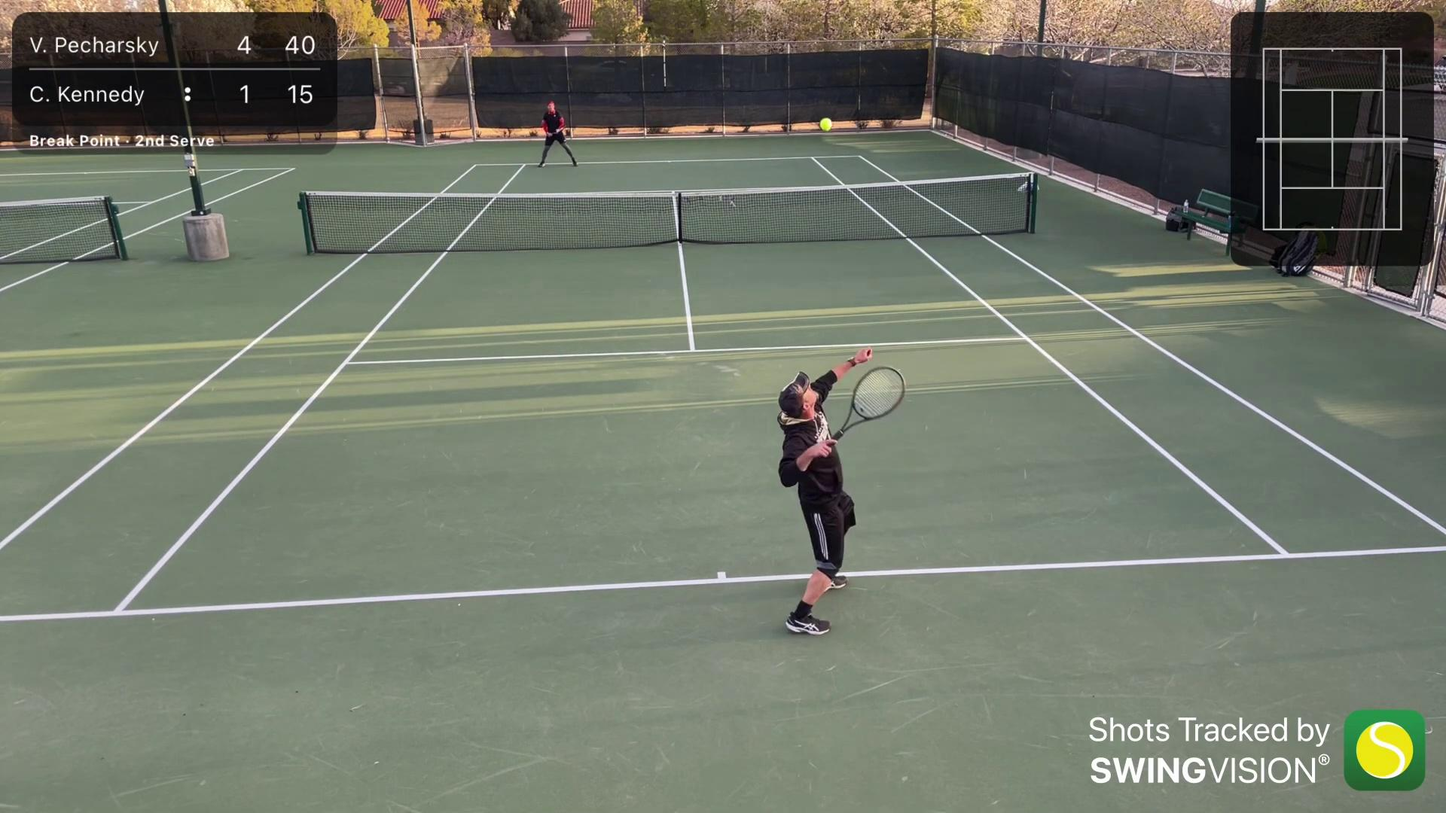ball: (818, 117, 833, 132)
